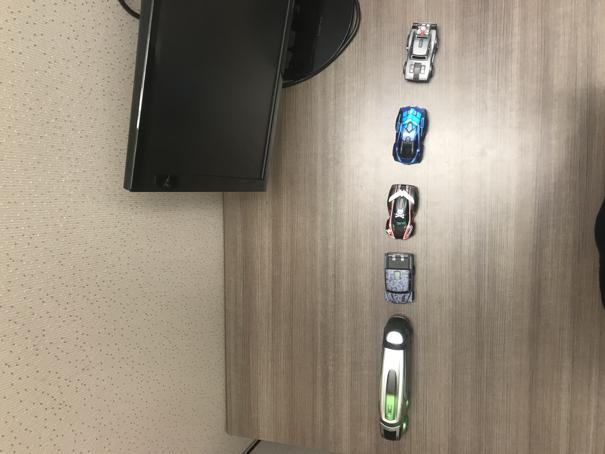Charger: (405, 23, 441, 84)
Freewheel: (378, 314, 412, 441)
MXT: (383, 252, 416, 303)
Shock: (391, 106, 430, 164)
Skull: (385, 184, 419, 242)
